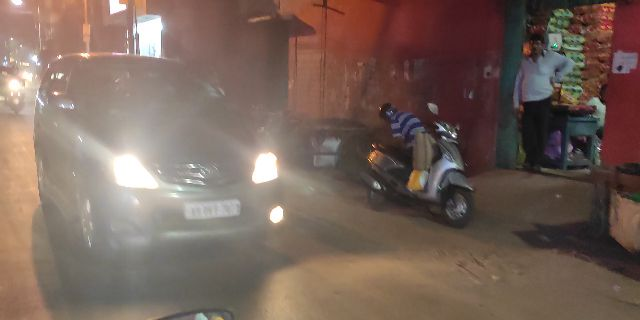Car: (36, 53, 292, 277)
Motorbike: (367, 130, 482, 226)
